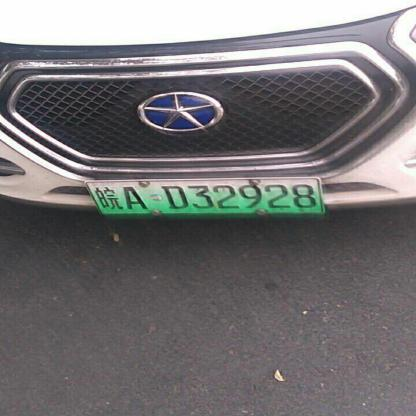lp: (82, 177, 324, 217)
